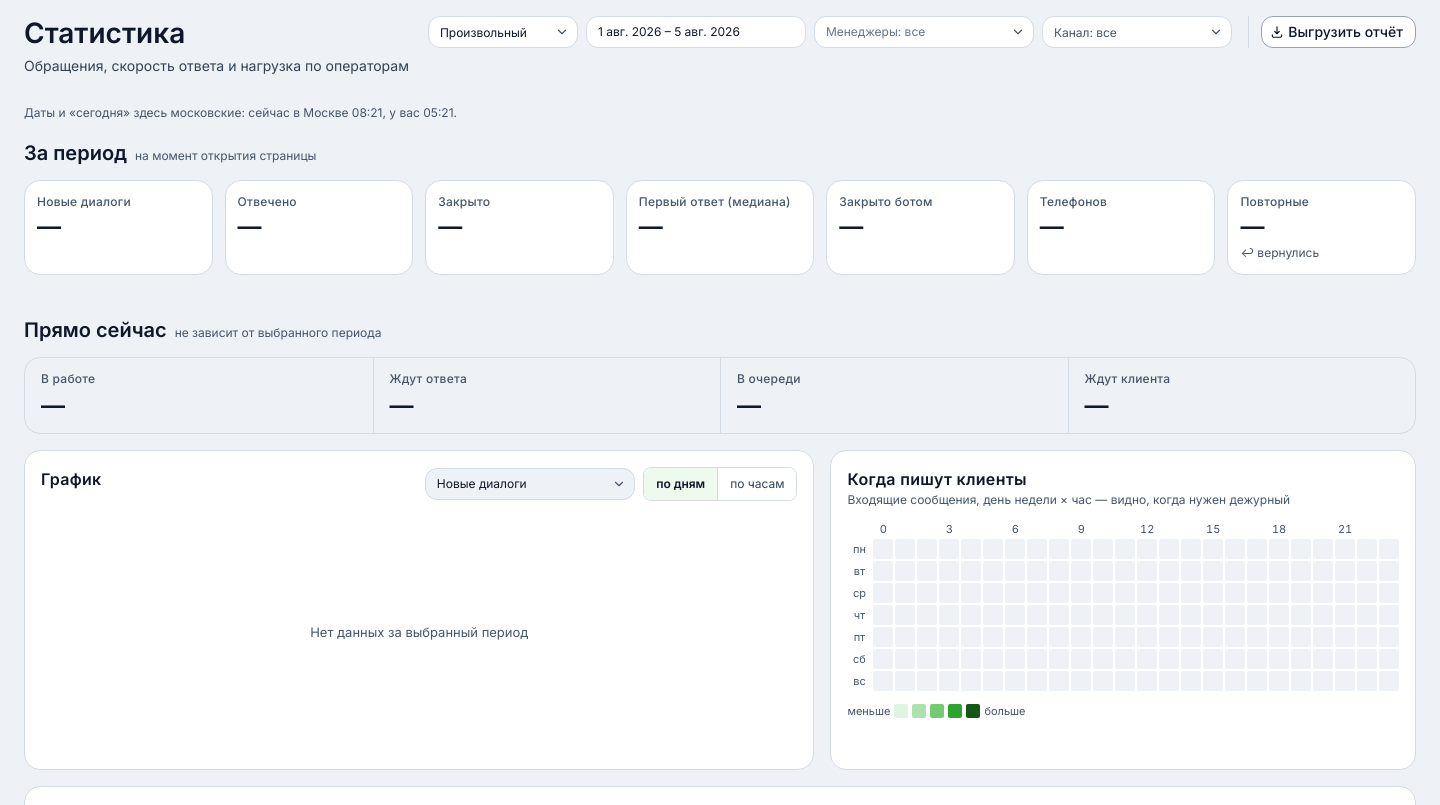
Статистика: пункт «Произвольный» › уход с «Произвольного» уносит и даты
Expected: the button with aria-label "Произвольный период" is shown, [586,16,806,48]
What coordinates should you click on to do the following:
click the field named "Период"
I would click on:
 (503, 32)
Its box is [428,16,578,48].
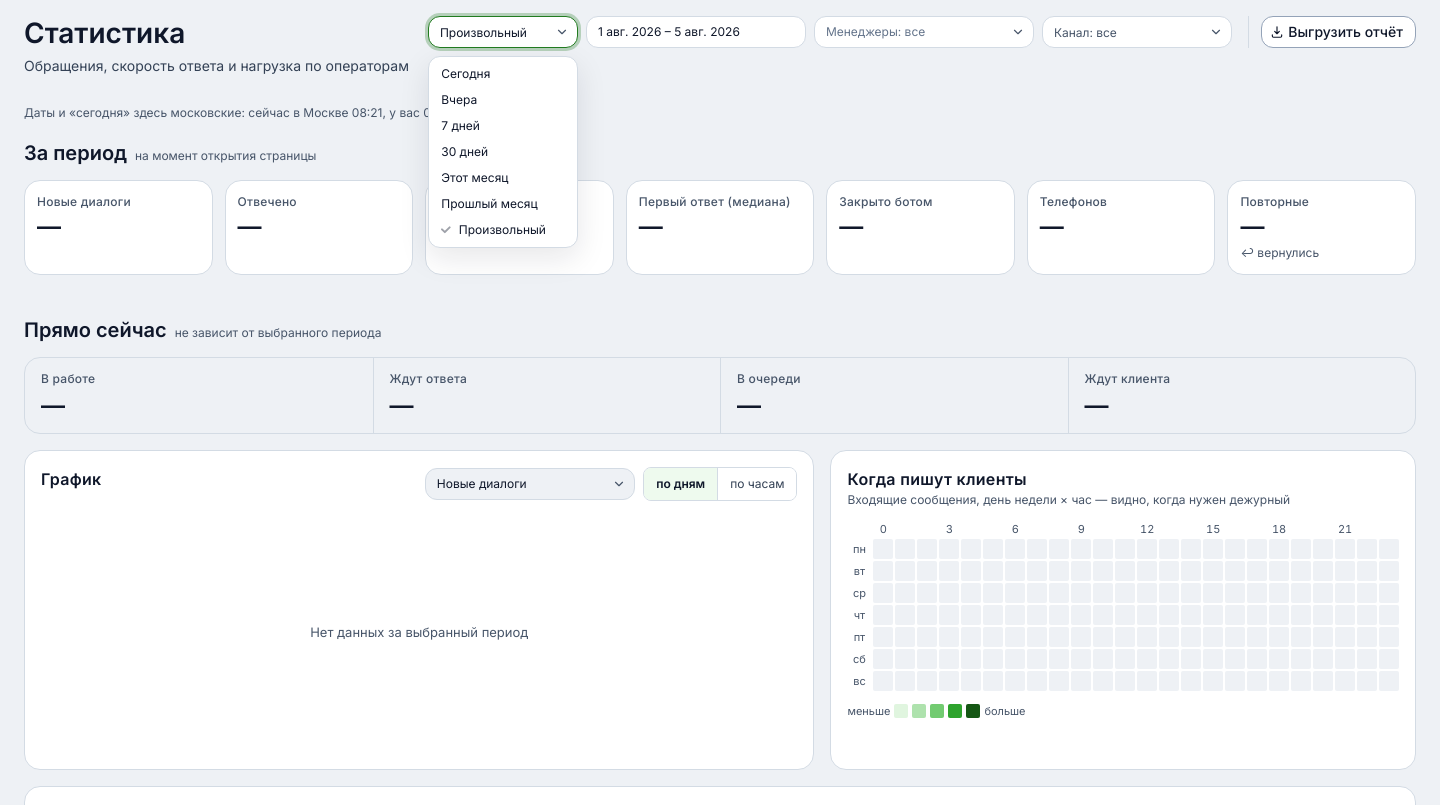
What coordinates should you click on to do the following:
click the option "30 дней"
I would click on:
 (465, 152)
Its box is [441,144,488,159].
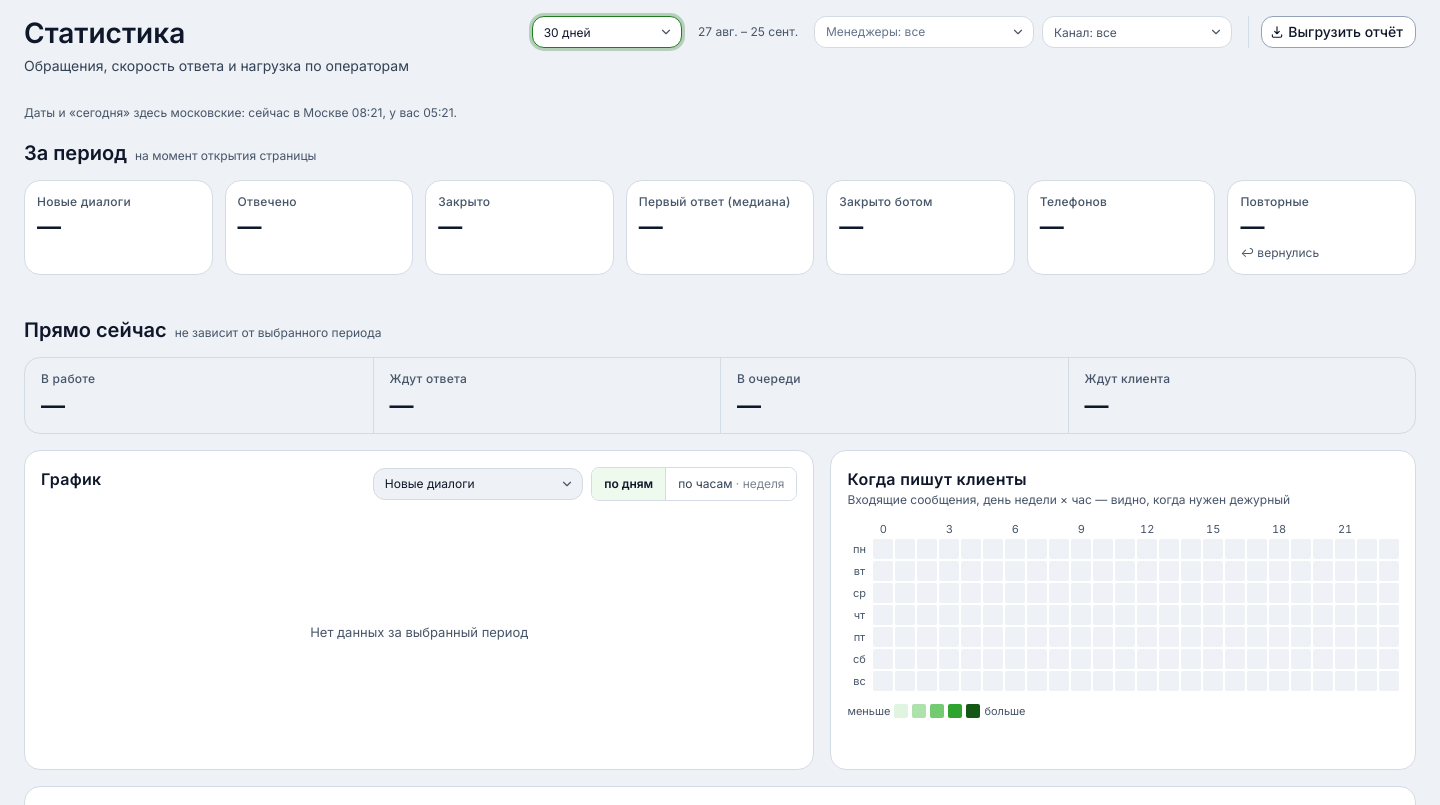
Now the button "1 авг. 2026 – 5 авг. 2026" is gone
